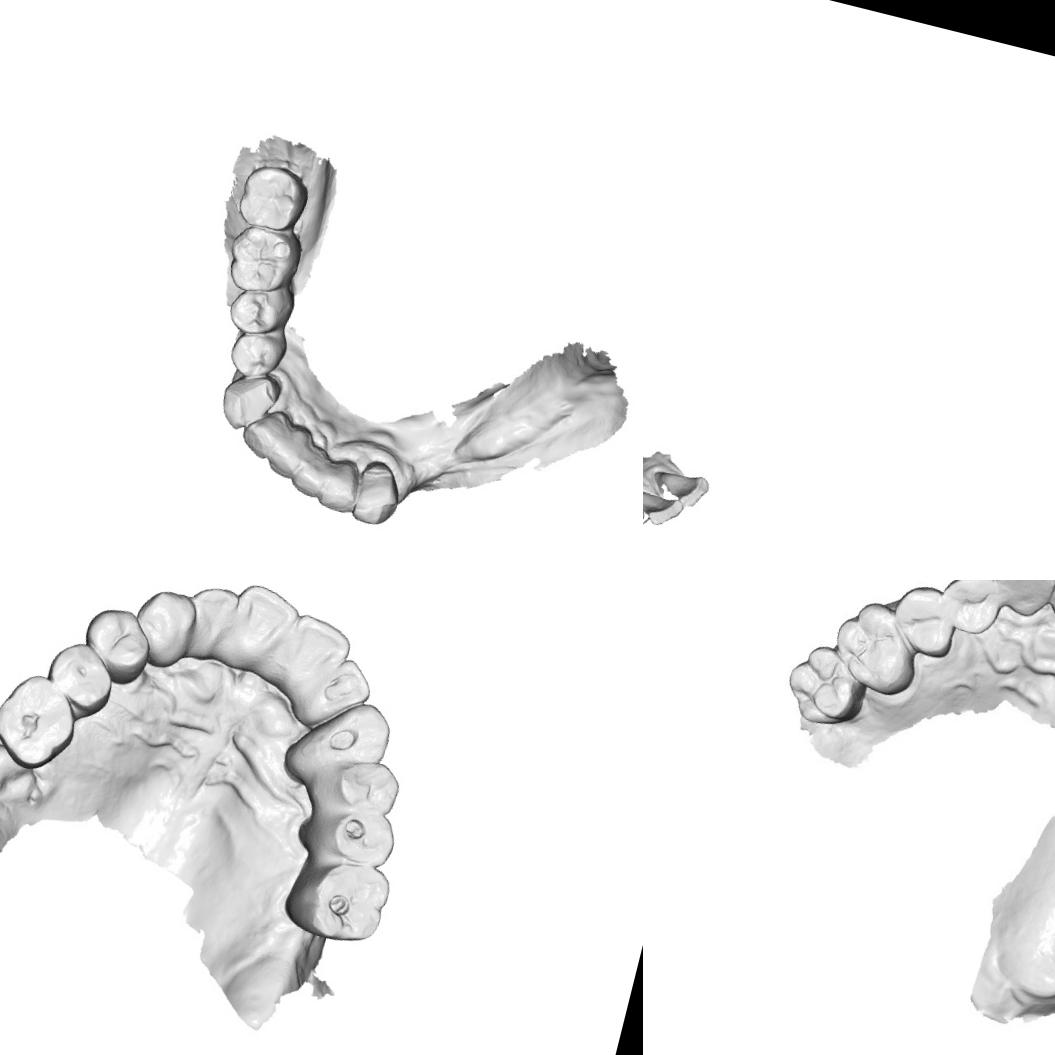canine: (299, 690, 396, 782), (126, 582, 202, 666), (214, 365, 284, 438), (346, 454, 407, 532), (988, 580, 1055, 617)
incisor: (223, 580, 303, 661), (272, 606, 357, 679), (181, 580, 240, 650), (315, 651, 378, 715), (234, 401, 294, 465), (262, 417, 318, 483), (314, 452, 365, 516), (287, 440, 336, 501), (654, 465, 711, 510), (643, 483, 686, 533)
molar: (274, 846, 394, 950), (825, 598, 924, 694), (0, 664, 84, 776), (219, 218, 307, 302), (783, 641, 866, 724), (232, 158, 315, 238)
premolar: (298, 793, 403, 874), (72, 599, 160, 689), (312, 745, 408, 821), (38, 636, 119, 718), (223, 277, 298, 343), (893, 582, 958, 656), (224, 316, 292, 382), (935, 580, 1005, 638)
